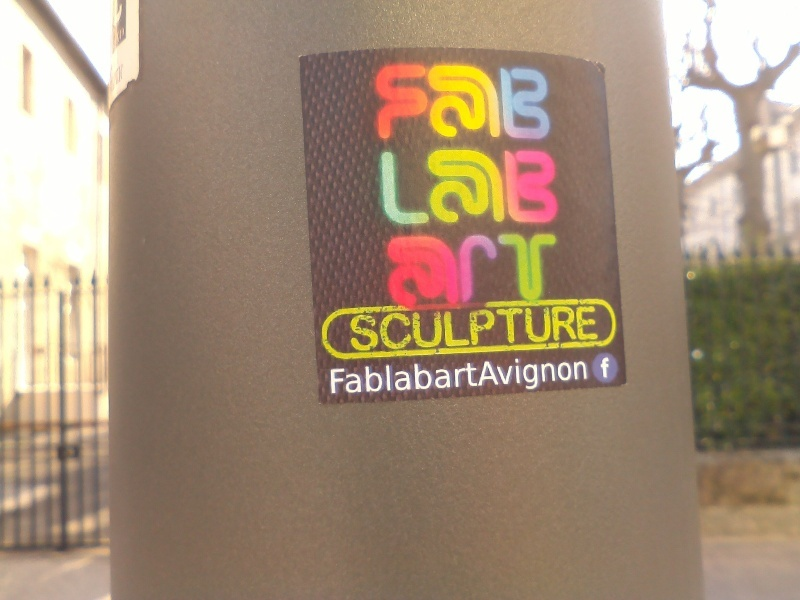text: (545, 230, 561, 307), (385, 62, 400, 144), (401, 62, 416, 144), (417, 62, 432, 144), (433, 62, 448, 144), (449, 62, 464, 144), (465, 62, 480, 144), (481, 62, 496, 144), (497, 62, 512, 144), (513, 62, 528, 144), (529, 62, 544, 144), (385, 144, 400, 226), (401, 144, 416, 226), (417, 144, 432, 226), (433, 144, 448, 226), (449, 144, 464, 226), (465, 144, 480, 226), (481, 144, 496, 226), (497, 144, 512, 226), (513, 144, 528, 226), (529, 144, 544, 226), (385, 230, 400, 307), (401, 230, 416, 307), (417, 230, 432, 307), (433, 230, 448, 307), (449, 230, 464, 307), (465, 230, 480, 307), (481, 230, 496, 307), (497, 230, 512, 307), (513, 230, 528, 307), (529, 230, 544, 307), (545, 144, 559, 226), (372, 62, 384, 144), (353, 304, 368, 354), (369, 304, 384, 354), (385, 304, 400, 354), (401, 304, 416, 354), (417, 304, 432, 354), (433, 304, 448, 354), (449, 304, 464, 354), (465, 304, 480, 354), (481, 304, 496, 354), (497, 304, 512, 354), (513, 304, 528, 354), (529, 304, 544, 354), (545, 304, 560, 354), (561, 304, 576, 354), (577, 304, 592, 354), (545, 62, 554, 144), (337, 354, 352, 399), (353, 354, 368, 399), (369, 354, 384, 399), (385, 354, 400, 399), (401, 354, 416, 399), (417, 354, 432, 399), (433, 354, 448, 399), (449, 354, 464, 399), (465, 354, 480, 399), (481, 354, 496, 399), (497, 354, 512, 399), (513, 354, 528, 399), (529, 354, 544, 399), (545, 354, 560, 399), (561, 354, 576, 399), (377, 144, 384, 226), (577, 354, 589, 399), (593, 304, 599, 354), (331, 354, 336, 399), (348, 304, 352, 354), (601, 357, 608, 379), (609, 357, 610, 379)
